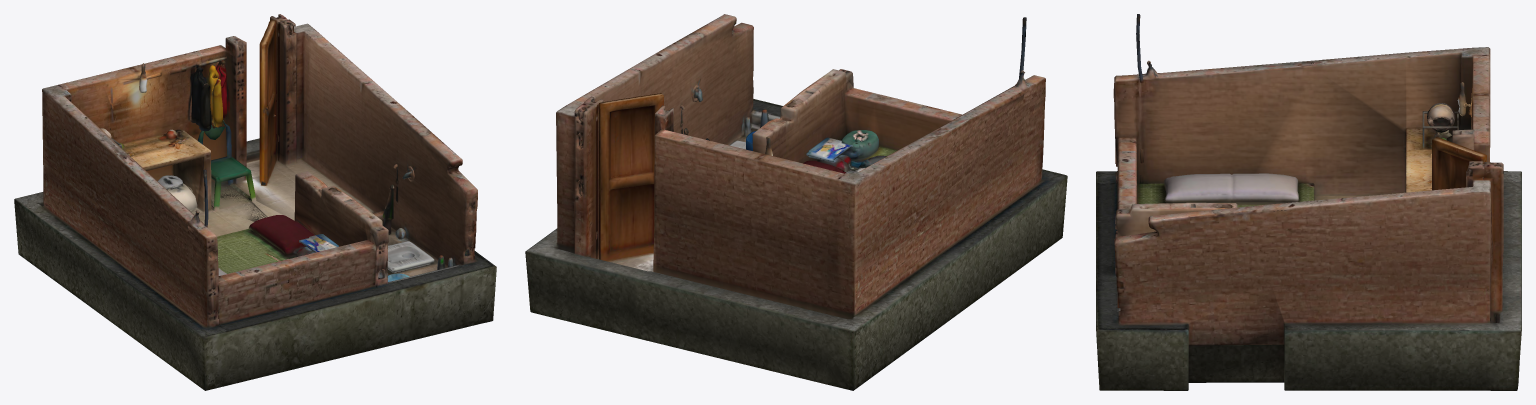
File: interior room 3d model.glb
3 views of the same model, side by side, from view 1: azimuth 30°, elevation 25°; view 2: azimuth 150°, elevation 25°; view 3: azimuth 270°, elevation 25° (orthographic). The views are drawn at different scales.
Parts seen in each view (by area): view 1: tripo_node_1da63734-07b3-4fb1-bed7-bfd7dffda70b; view 2: tripo_node_1da63734-07b3-4fb1-bed7-bfd7dffda70b; view 3: tripo_node_1da63734-07b3-4fb1-bed7-bfd7dffda70b.
Boxes of the visible parts, <box> form: tripo_node_1da63734-07b3-4fb1-bed7-bfd7dffda70b: <box>14,14,496,390</box>; tripo_node_1da63734-07b3-4fb1-bed7-bfd7dffda70b: <box>525,14,1067,390</box>; tripo_node_1da63734-07b3-4fb1-bed7-bfd7dffda70b: <box>1096,14,1521,390</box>.
Bounding box in the file's own units: 0.8711 × 0.5801 × 0.9783.
Materials: 1 (1 with a texture image).
